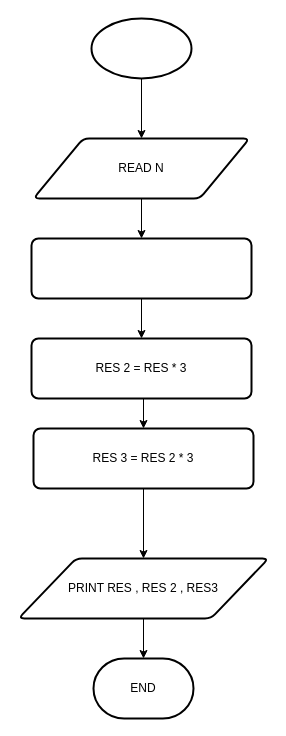
Image size: 286x736. Some labels were removed from this diagram. The box of each missing label's shape, as (x1, y1, x2, y2) in pixels:
RES = N * N: (30, 237, 252, 299)
START: (90, 17, 192, 79)
